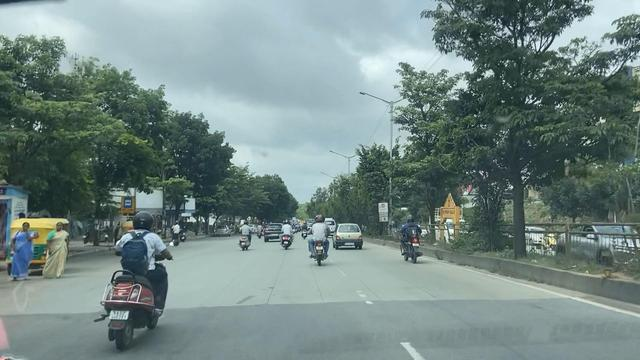LMV: (95, 199, 182, 356)
